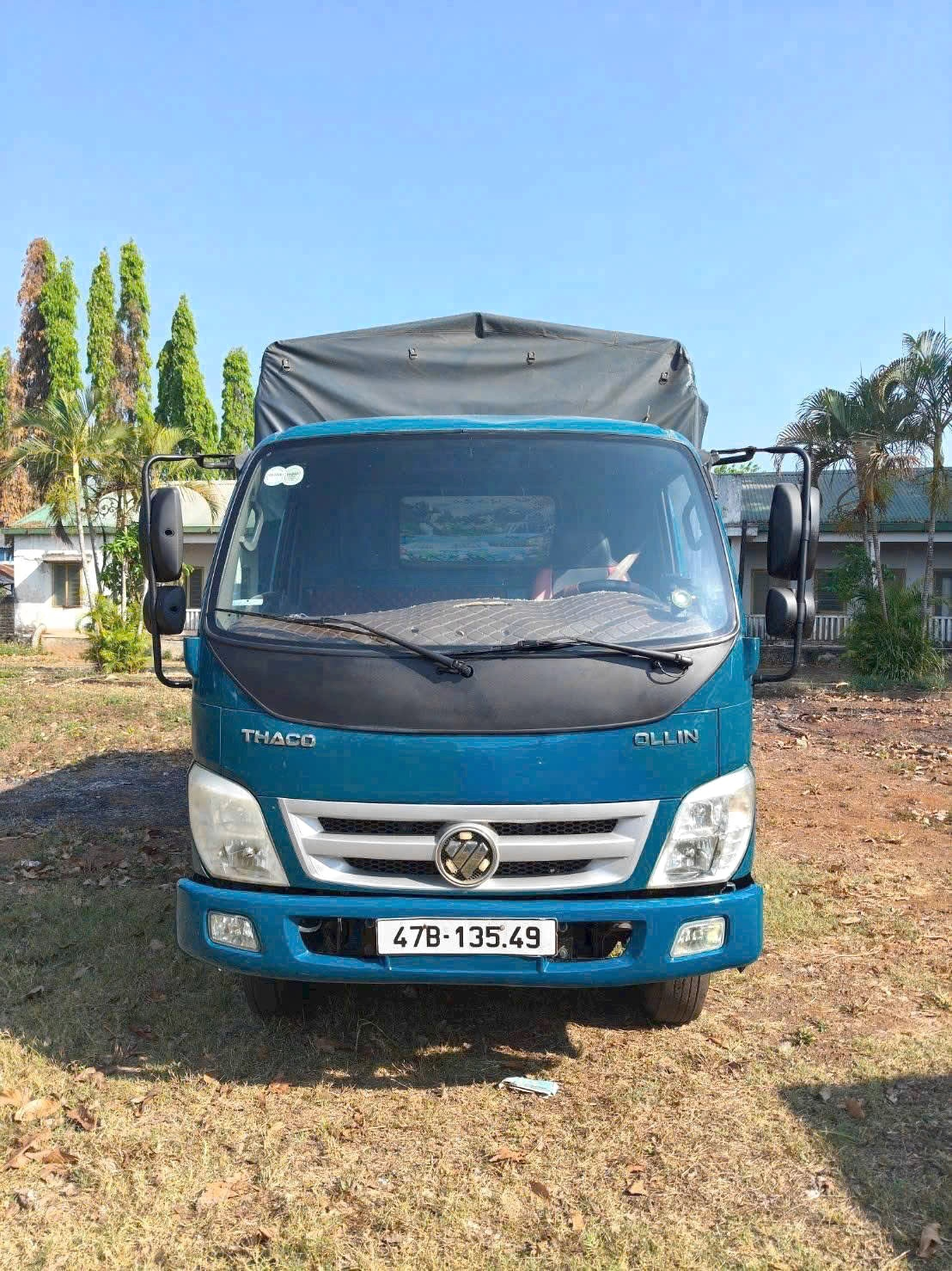Bien-so: (371, 906, 545, 961)
